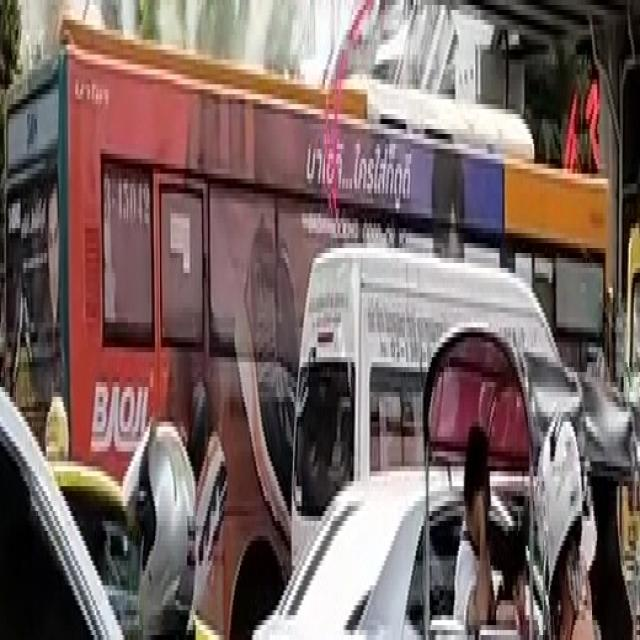helmet: (122, 412, 197, 635), (536, 407, 582, 595), (187, 372, 208, 471), (44, 392, 69, 456)
